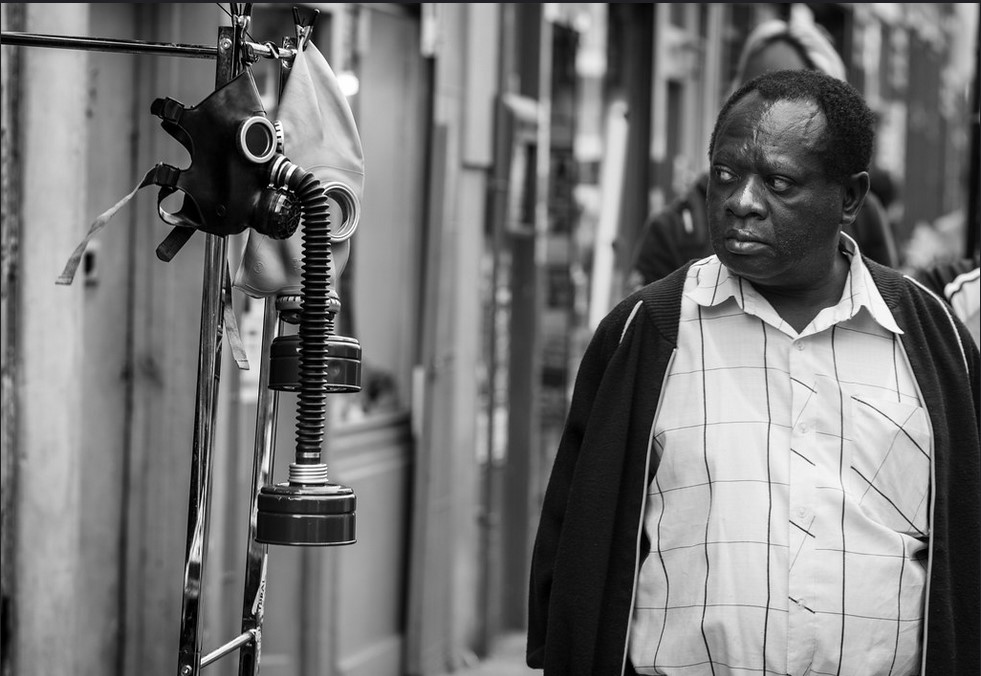face_no_mask: (701, 74, 870, 280)
